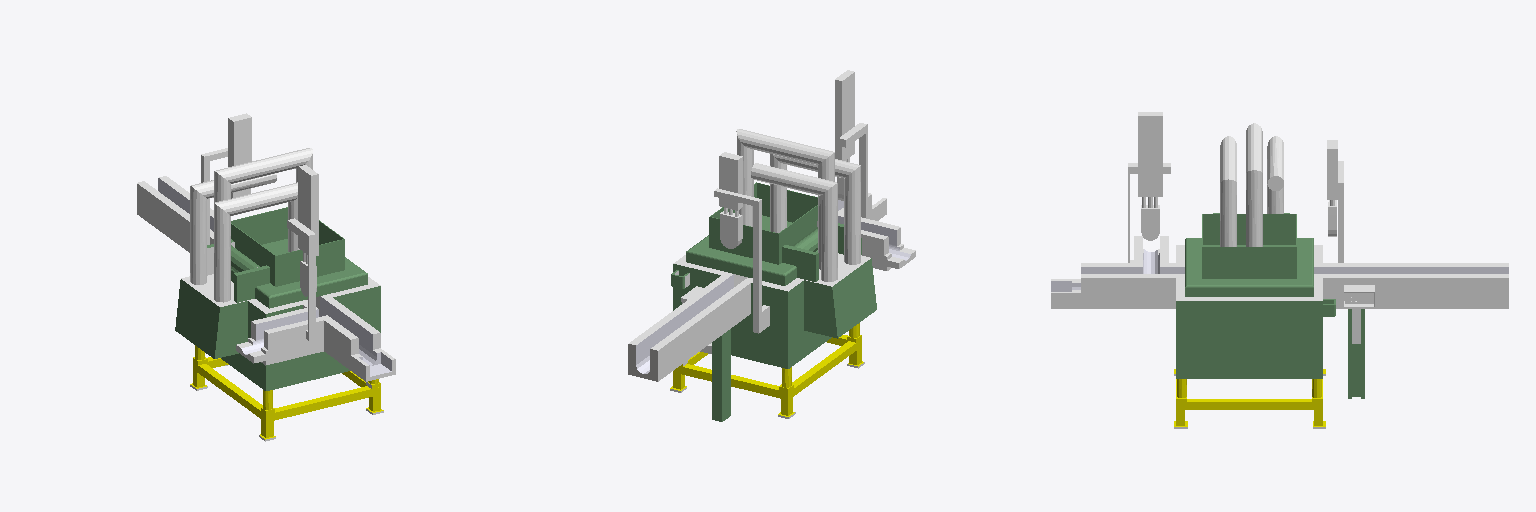
Rendered from CFF.obj.
3 views of the same model, side by side, from view 1: azimuth 30°, elevation 25°; view 2: azimuth 150°, elevation 25°; view 3: azimuth 270°, elevation 25° (orthographic).
Parts seen in each view (by area): view 1: CFF; view 2: CFF; view 3: CFF.
Boxes of the visible parts, box(x1,y1,x2,y2) form: CFF: box(137, 113, 395, 441); CFF: box(628, 70, 915, 421); CFF: box(1051, 112, 1508, 428).
Size of the model in its own units: 122 by 210 by 321.